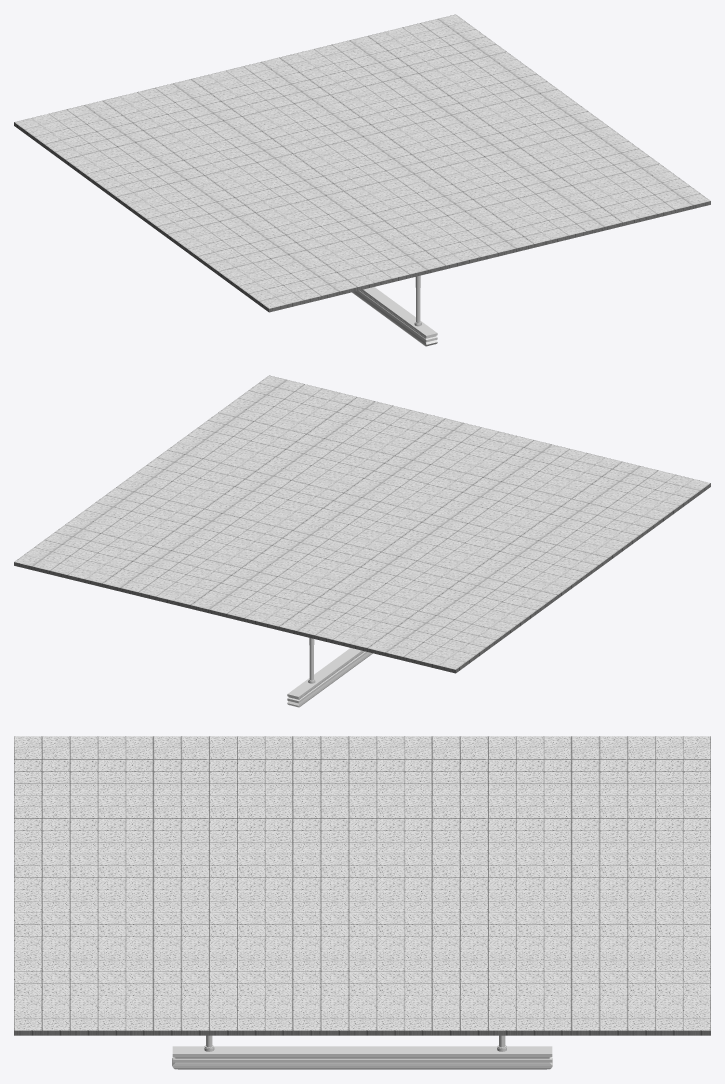
Rendered from plafond3.FBX.
The picture shows the model from 3 angles, top to bottom: view 1: azimuth 30°, elevation 25°; view 2: azimuth 150°, elevation 25°; view 3: azimuth 270°, elevation 25°; orthographic projection. The views are drawn at different scales.
Parts seen in each view (by area): view 1: Plane002, Box001; view 2: Plane002, Box001; view 3: Plane002, Box001.
Part boxes in pixels (x1=…): Plane002: x1=14, y1=14, x2=710, y2=312; Box001: x1=352, y1=287, x2=437, y2=346; Plane002: x1=14, y1=375, x2=710, y2=673; Box001: x1=287, y1=648, x2=372, y2=707; Plane002: x1=14, y1=736, x2=710, y2=1035; Box001: x1=172, y1=1046, x2=552, y2=1069.
Size of the model in its own units: 500 by 145 by 500.
1 material, 1 textured.
